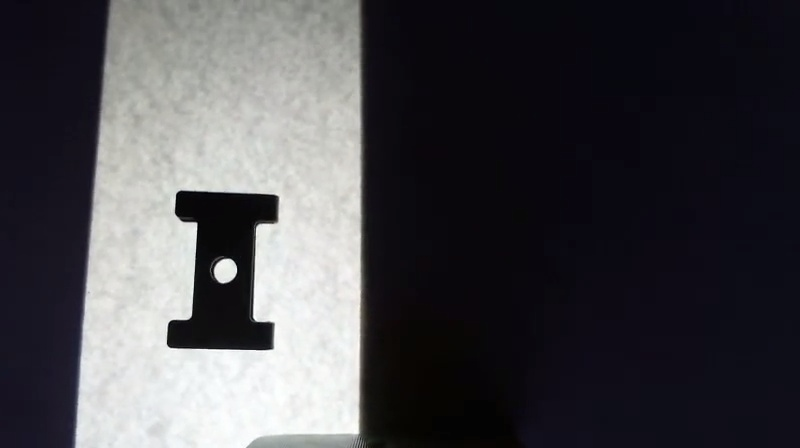O002: (158, 186, 283, 353)
